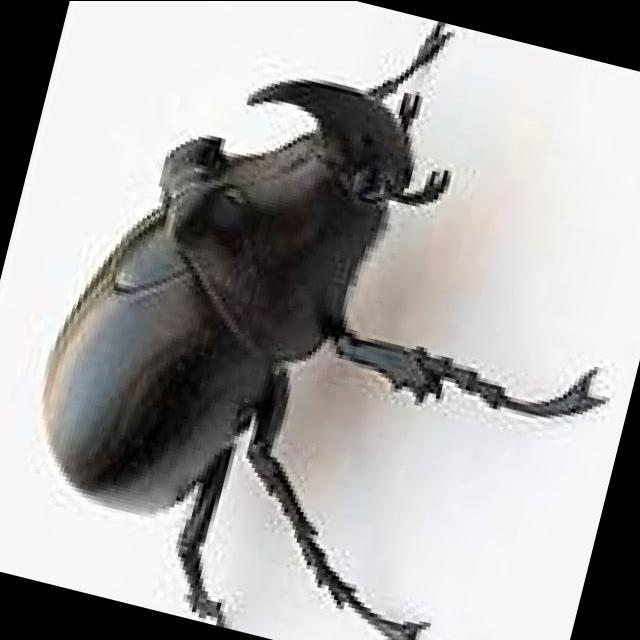Rhino-beetle: (77, 23, 574, 635)
